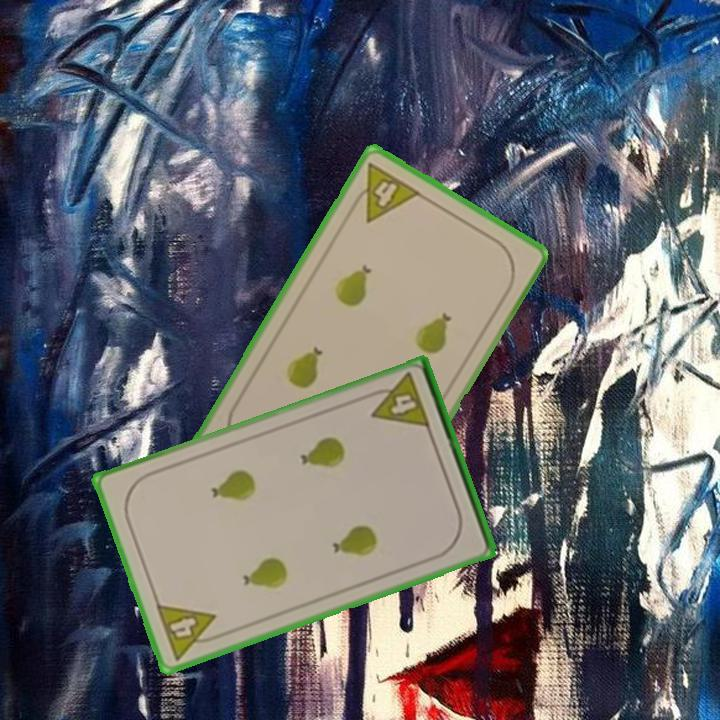4p: (345, 159, 424, 225), (152, 600, 225, 663), (362, 369, 433, 432)
